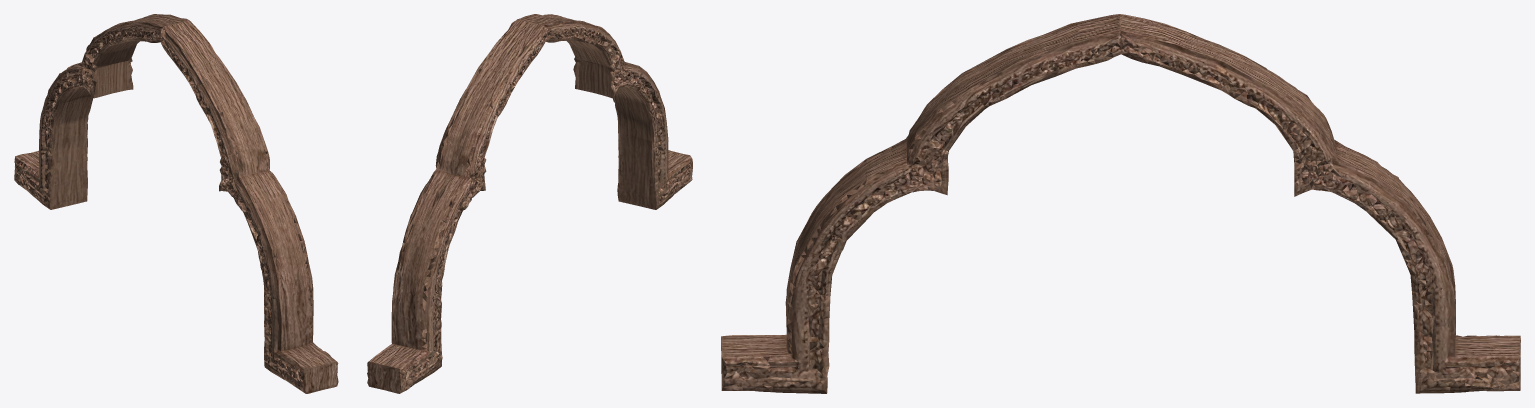
Rendered from SM_diaohua_2_9d0b1b.glb.
3 renders of one model, left to right at view 1: azimuth 30°, elevation 25°; view 2: azimuth 150°, elevation 25°; view 3: azimuth 270°, elevation 25°, orthographic. The views are drawn at different scales.
Visible parts, largest first — view 1: SM_diaohua_2; view 2: SM_diaohua_2; view 3: SM_diaohua_2.
Boxes of the visible parts, box(x1,y1,x2,y2) form: SM_diaohua_2: box(14, 14, 338, 393); SM_diaohua_2: box(367, 14, 692, 393); SM_diaohua_2: box(721, 14, 1520, 393).
Size of the model in its own units: 0.104 by 0.6192 by 1.25.
1 material, 1 textured.
